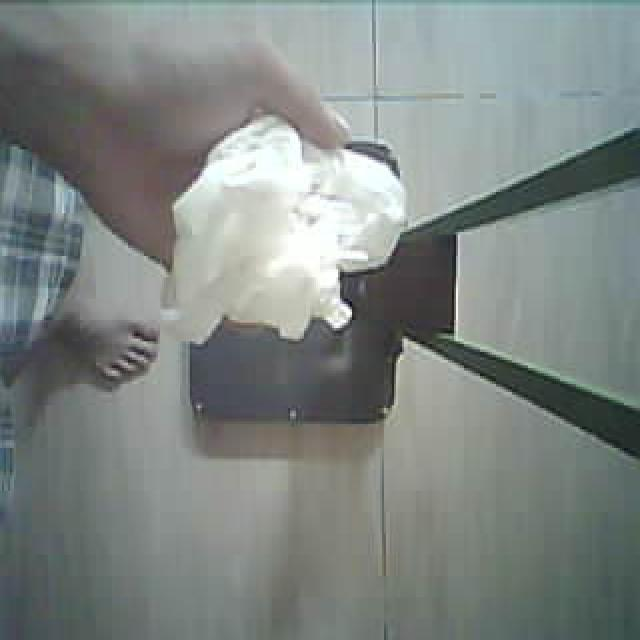Paper: (110, 78, 496, 364)
